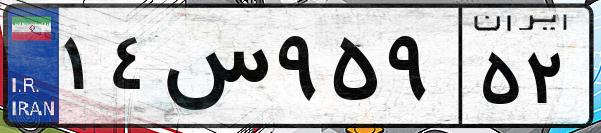1: (57, 26, 110, 100)
2: (525, 38, 570, 115)
4: (110, 28, 158, 98)
5: (330, 28, 385, 110), (475, 38, 525, 113)
9: (270, 28, 330, 110), (385, 28, 445, 110)
س: (158, 20, 270, 120)
